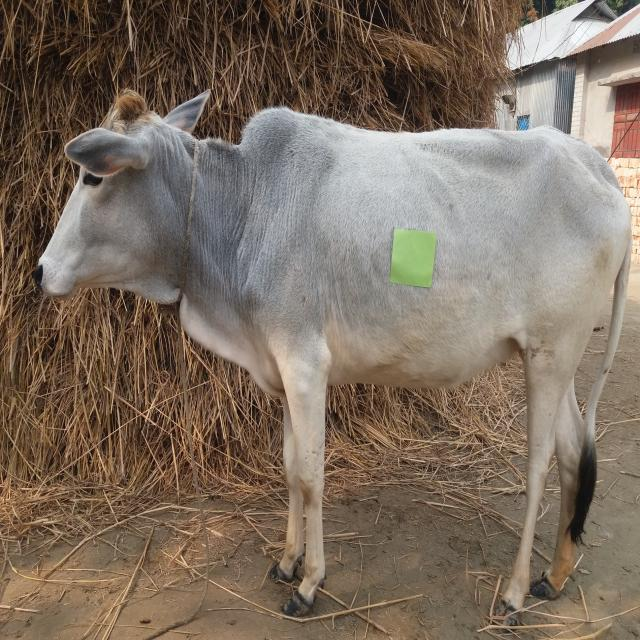badan_sapi: (243, 104, 625, 398)
sapi: (29, 83, 636, 624)
